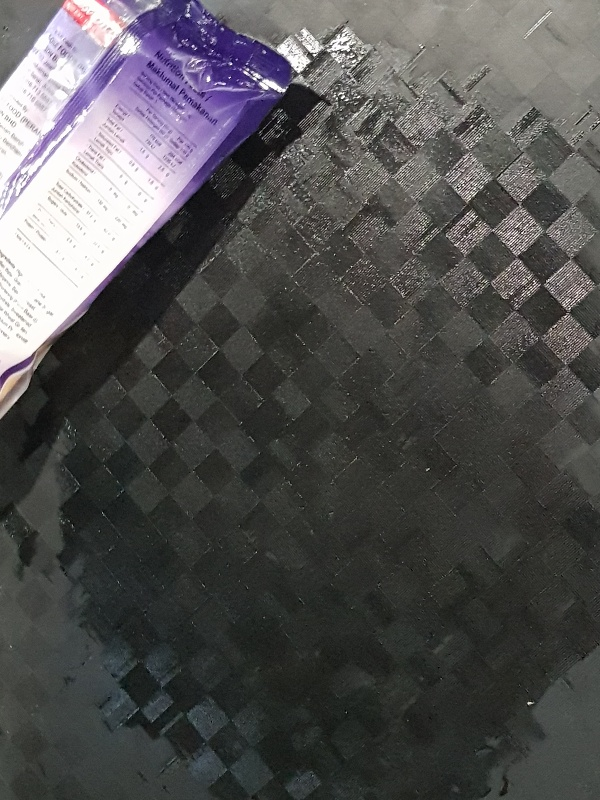Tinges Roll Chocolate: (1, 1, 299, 420)
